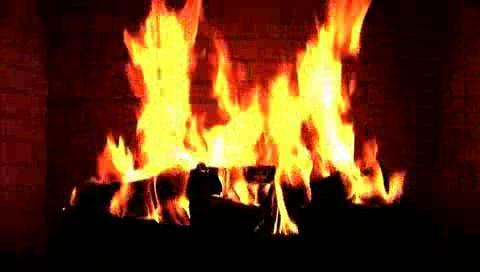fire: (109, 13, 407, 215)
